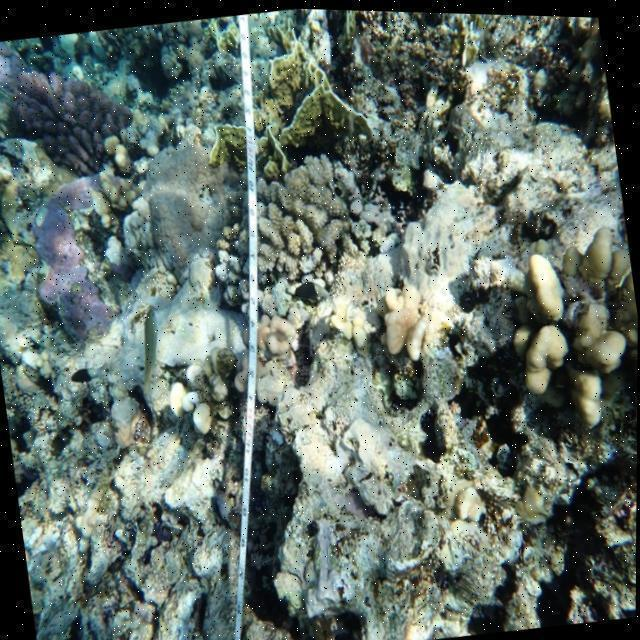Bleached Coral: (353, 144, 538, 300), (203, 252, 264, 301)
Healthy Coral: (534, 229, 640, 444), (5, 51, 116, 177)
